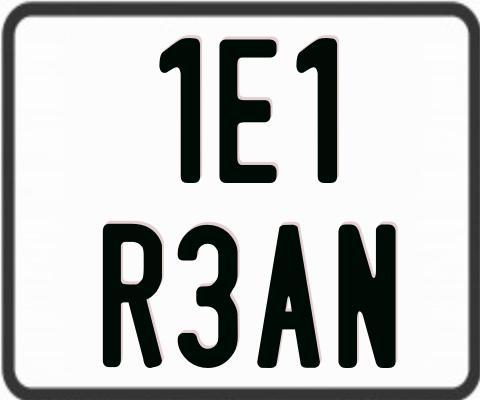1: (296, 37, 343, 186), (159, 35, 203, 182)
3: (177, 223, 239, 372)
A: (256, 224, 325, 370)
E: (219, 38, 282, 184)
N: (336, 224, 400, 369)
R: (103, 224, 162, 373)
